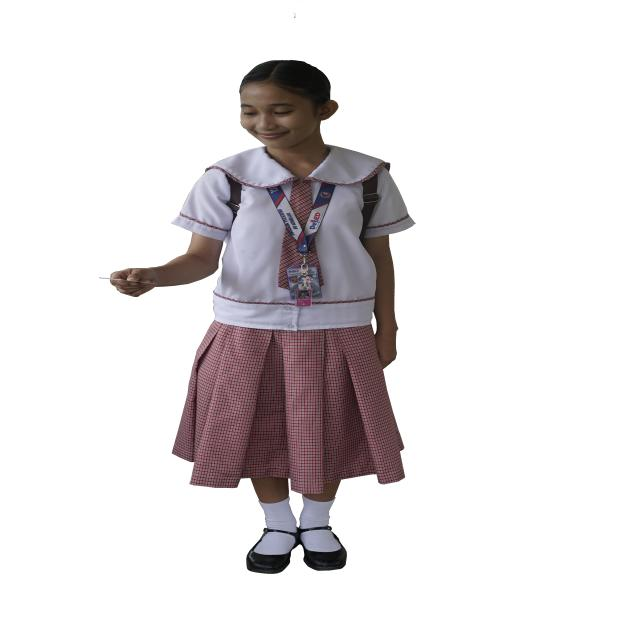id lace: (267, 183, 335, 257)
pologirl: (172, 145, 414, 331), (278, 228, 319, 289), (288, 179, 314, 231)
shoes: (301, 532, 347, 571), (246, 543, 290, 574), (298, 525, 331, 535)
skirt: (173, 321, 404, 493)
